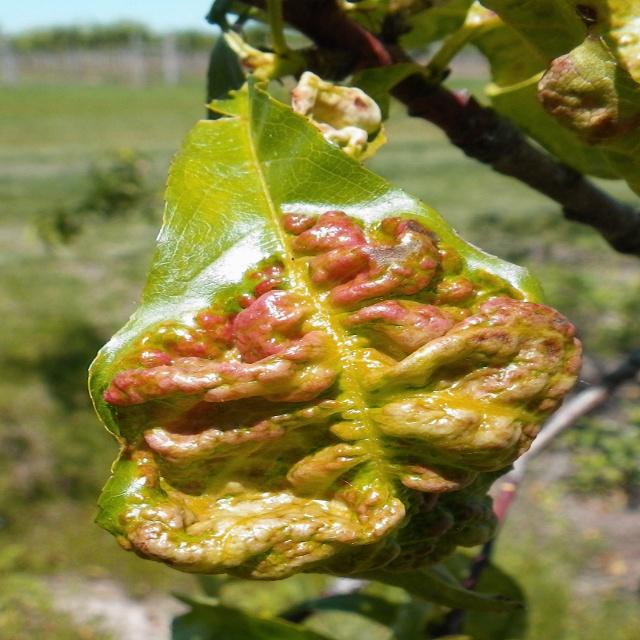leaf_curl: (63, 77, 594, 586)
